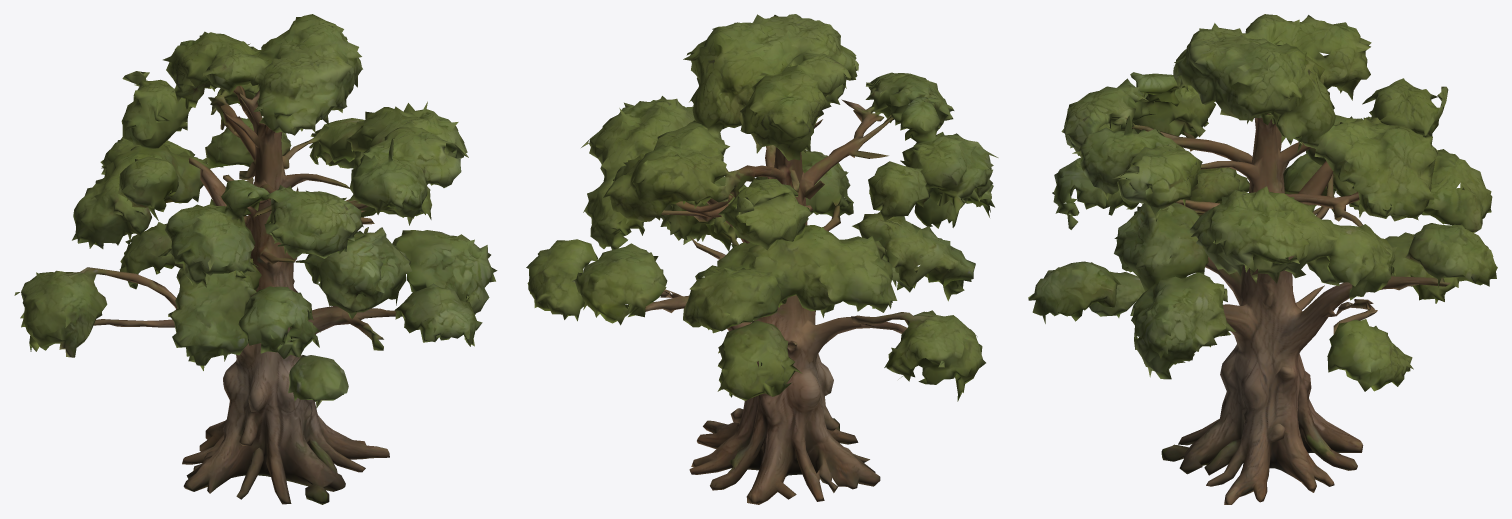
The model's file is prop_tree.glb.
The picture shows the model from 3 angles, left to right: view 1: azimuth 30°, elevation 25°; view 2: azimuth 150°, elevation 25°; view 3: azimuth 270°, elevation 25°; orthographic projection.
Visible parts, largest first — view 1: tripo_node_2bff06a8-298f-43a9-be01-2460d4515ef5; view 2: tripo_node_2bff06a8-298f-43a9-be01-2460d4515ef5; view 3: tripo_node_2bff06a8-298f-43a9-be01-2460d4515ef5.
Part boxes in pixels (x1,y1,x2,y2): tripo_node_2bff06a8-298f-43a9-be01-2460d4515ef5: (14, 14, 497, 504); tripo_node_2bff06a8-298f-43a9-be01-2460d4515ef5: (526, 14, 998, 504); tripo_node_2bff06a8-298f-43a9-be01-2460d4515ef5: (1028, 14, 1497, 504).
Bounding box in the file's own units: 0.999 × 0.9568 × 0.9397.
1 material, 1 textured.
